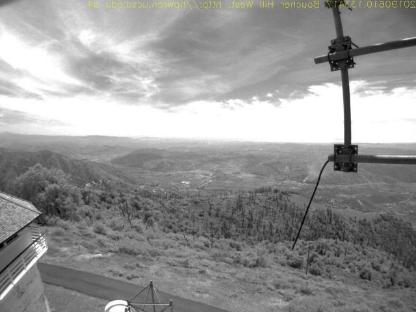smoke: (298, 142, 332, 184)
